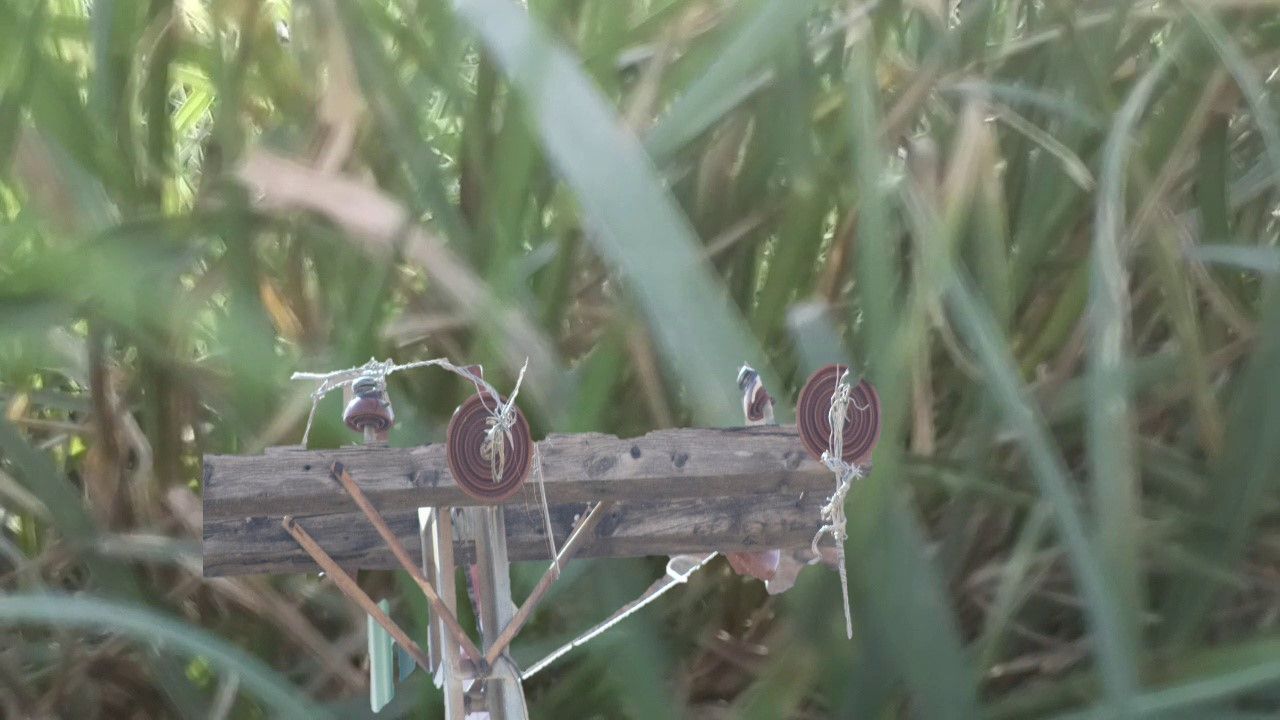defect_pin: (731, 355, 779, 429)
insulator_disc: (443, 387, 537, 505), (793, 359, 886, 469)
insulator_pin: (340, 365, 397, 434)
